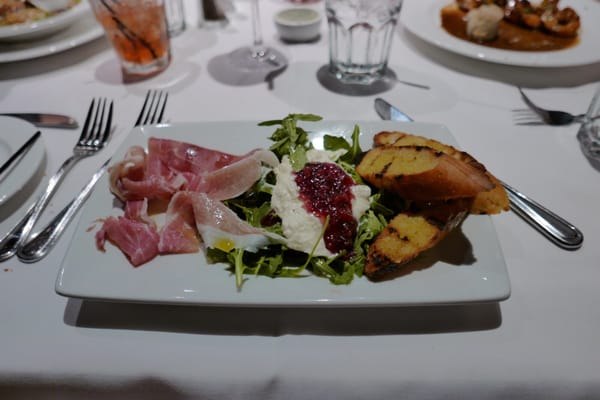burger: (517, 88, 595, 125)
soup: (355, 132, 513, 280)
